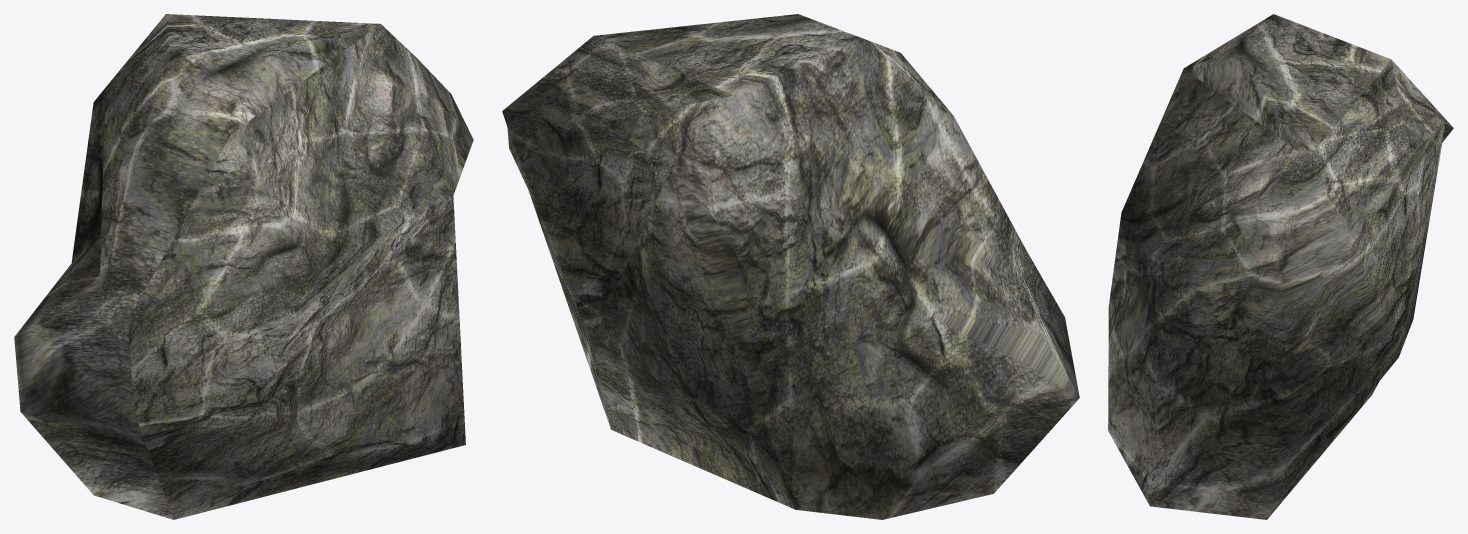
The model's file is rock1_LOD2.FBX.
3 views of the same model, side by side, from view 1: azimuth 30°, elevation 25°; view 2: azimuth 150°, elevation 25°; view 3: azimuth 270°, elevation 25° (orthographic). The views are drawn at different scales.
Visible parts, largest first — view 1: rock1_LOD2; view 2: rock1_LOD2; view 3: rock1_LOD2.
Part boxes in pixels (x1,y1,x2,y2): rock1_LOD2: (14,14,473,519); rock1_LOD2: (502,14,1079,519); rock1_LOD2: (1108,14,1453,519).
Bounding box in the file's own units: 494 × 414 × 322.
